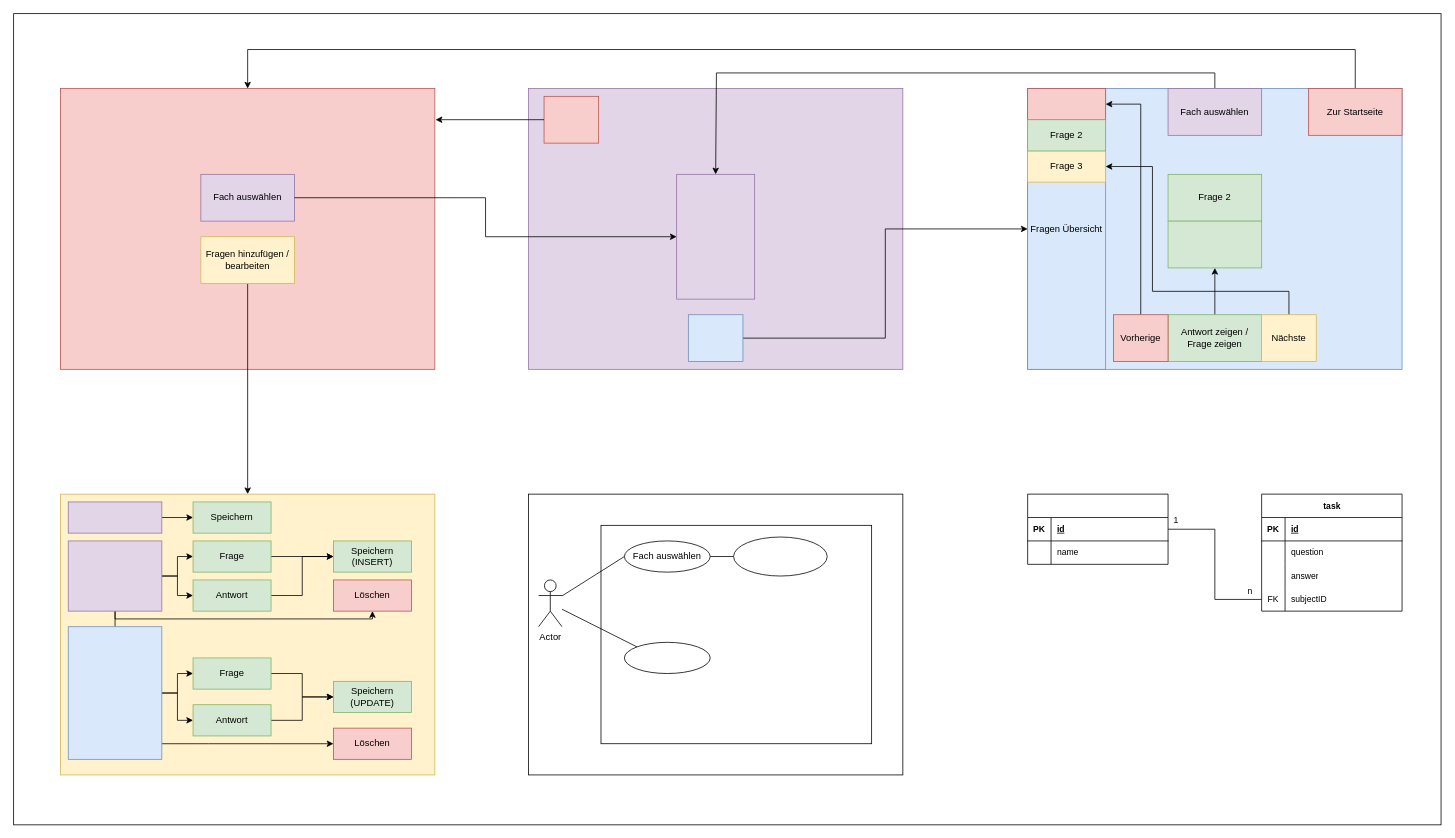
This 1455x838 diagram has some shape labels left out. Each missing label, with the box of its shape:
Antwort 2: (1167, 220, 1262, 268)
Fach (CRUD): (624, 642, 710, 674)
Fach auswahl: (67, 540, 162, 611)
Fach hinzufügen: (67, 501, 162, 533)
Frage 1: (1027, 88, 1106, 120)
Fragen (auswählen): (67, 626, 162, 759)
Fragen / Antworten einsehen: (733, 536, 827, 576)
Fächer: (676, 174, 755, 299)
start: (688, 314, 743, 362)
subject: (1027, 493, 1168, 564)
Zurück: (543, 96, 599, 143)
